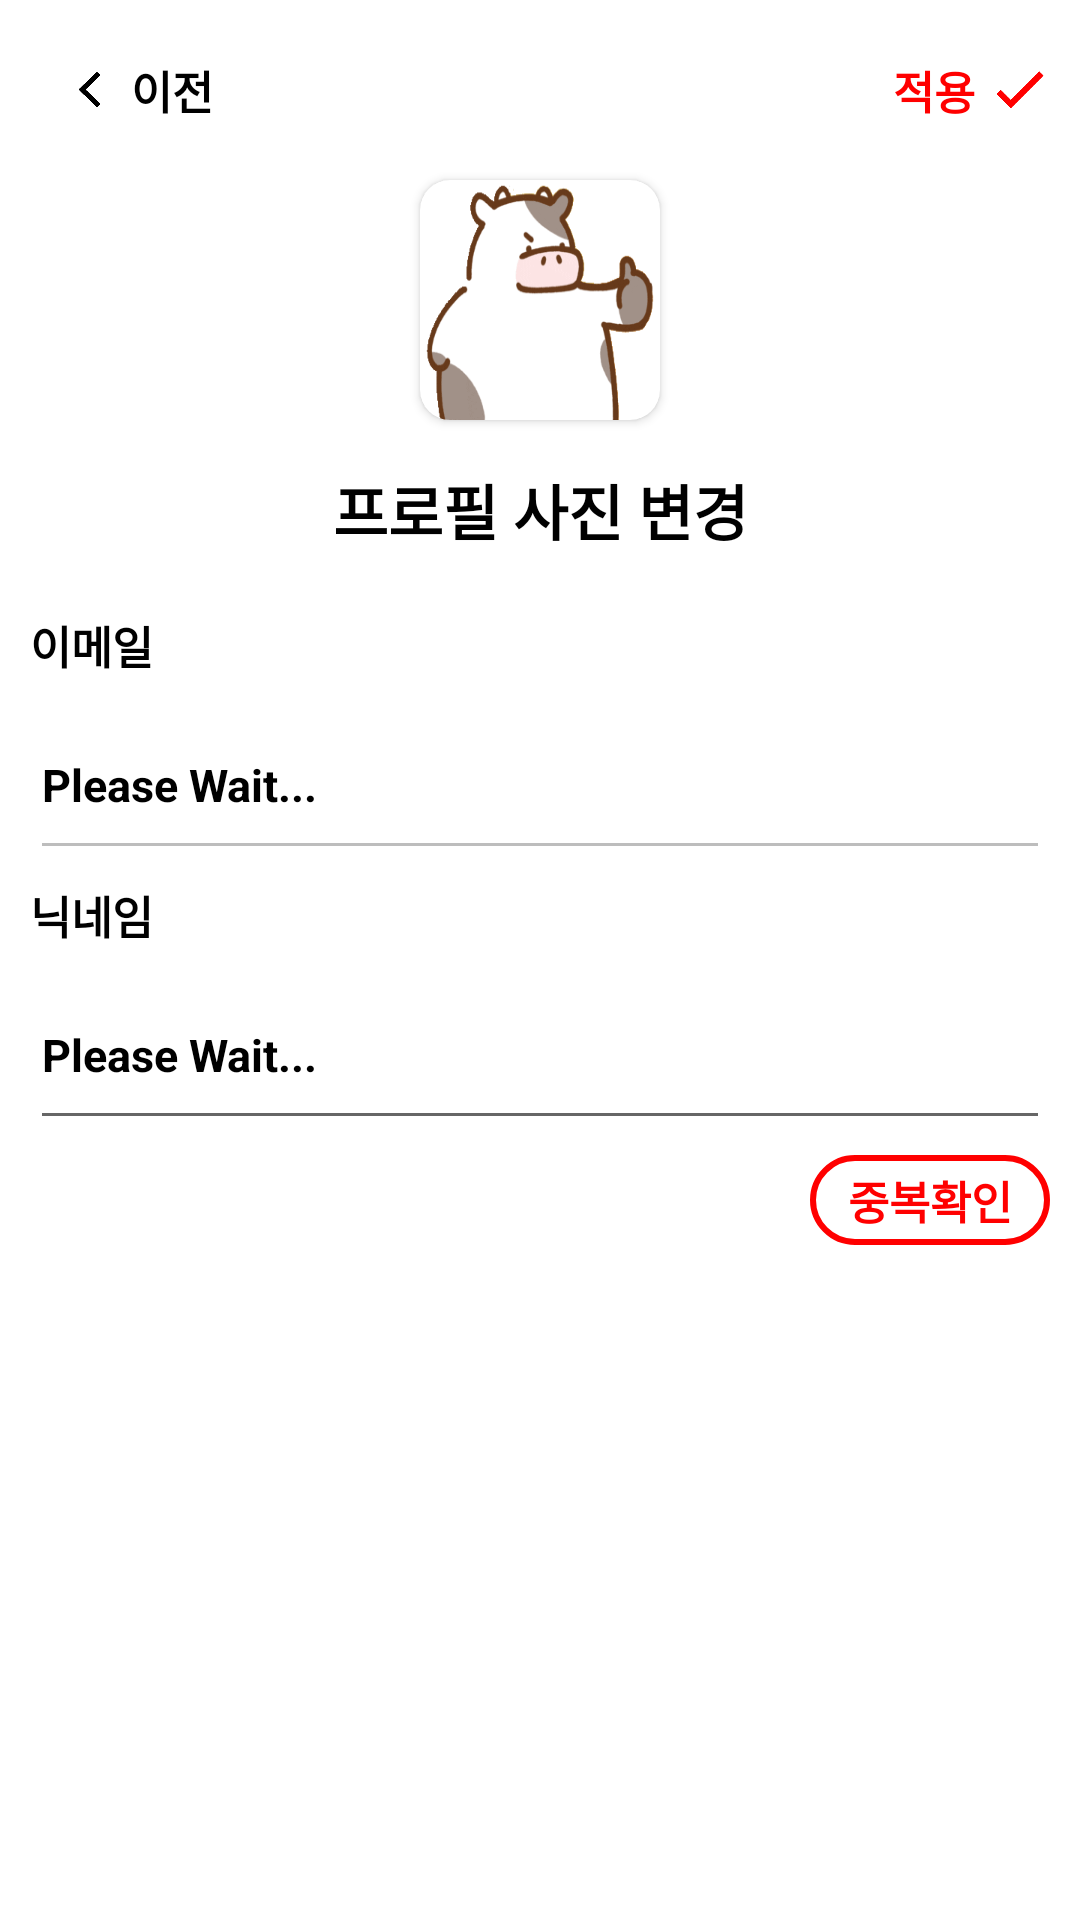

Where to tap for icons on this 1080 × 1920 app screen, as (x=x, y=y):
arrow left: (x=89, y=89)
check: (x=1020, y=89)
